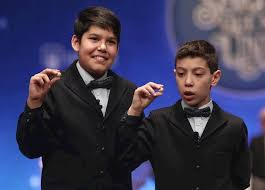person: (54, 11, 141, 115), (152, 43, 238, 133)
